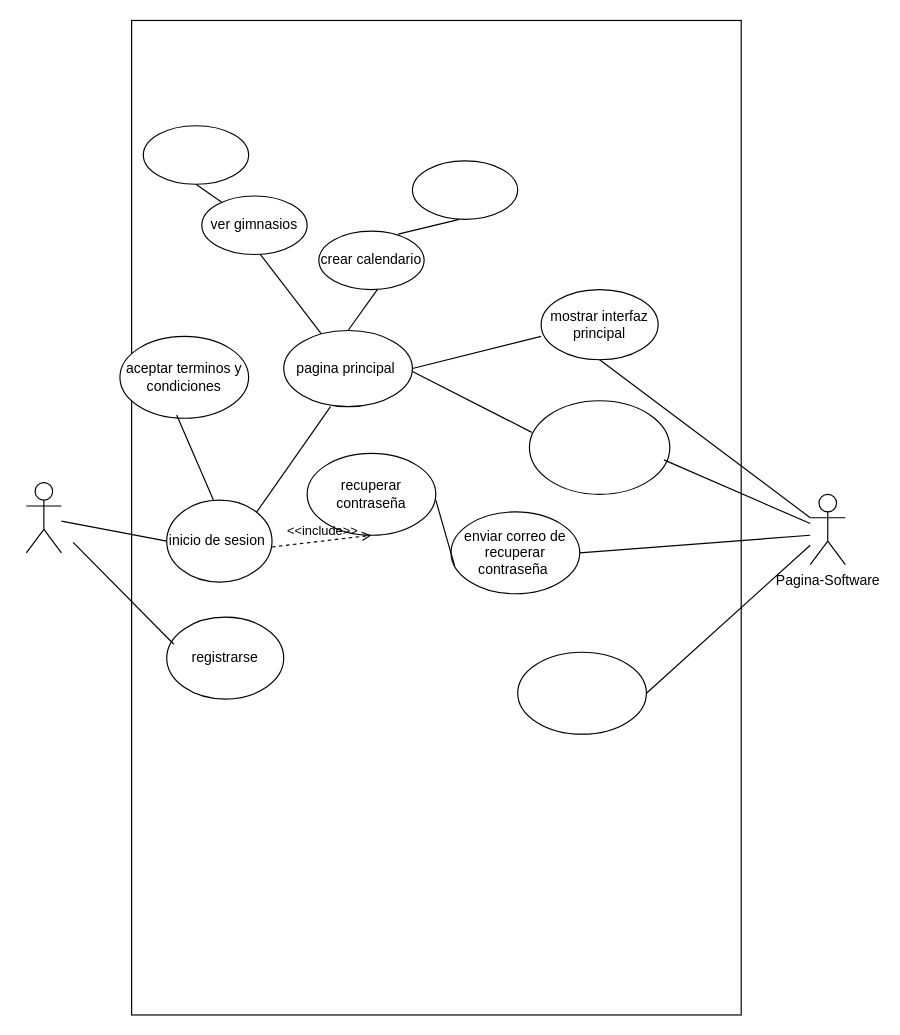
The diagram is 900 pixels wide and 1035 high, and some of its shapes have lost their labels. Each missing label, with the centre of its shape:
"enviar correo de bienvenida a la pagina" goes at (581,692).
"gimnasios disponibles" goes at (195,154).
"indice de masa corporal" goes at (599,447).
"mostrar calendario" goes at (464,189).
"Usuario" goes at (43,517).
